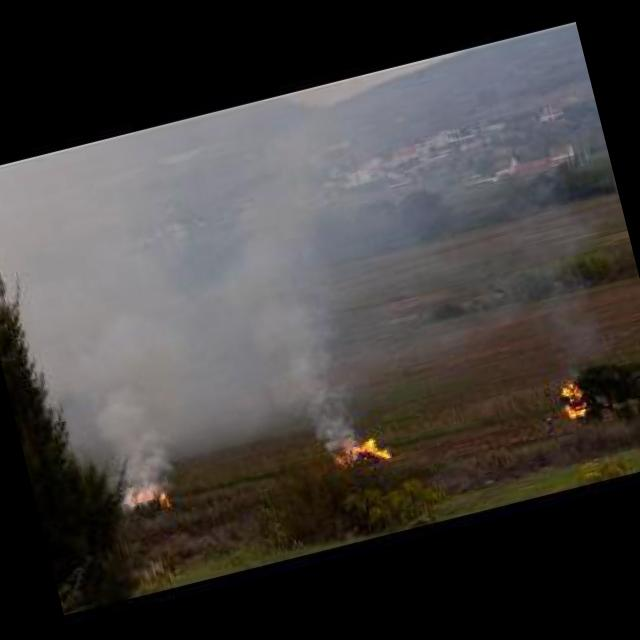fire: (334, 430, 392, 470), (560, 374, 592, 416), (132, 480, 172, 511)
smoke: (104, 407, 186, 506), (287, 364, 363, 454)
